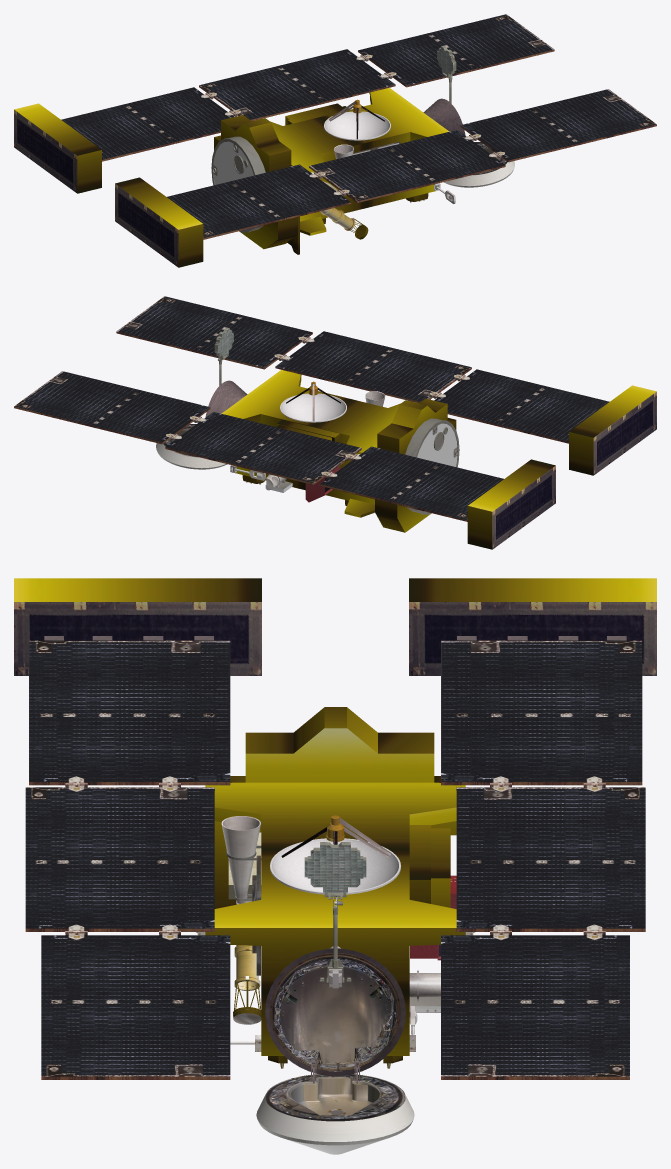
The model's file is stardust_lod0.glb.
The picture shows the model from 3 angles, top to bottom: view 1: azimuth 30°, elevation 25°; view 2: azimuth 150°, elevation 25°; view 3: azimuth 270°, elevation 25°; orthographic projection. The views are drawn at different scales.
Parts seen in each view (by area): view 1: stardust_lod0; view 2: stardust_lod0; view 3: stardust_lod0.
Part boxes in pixels (bbox=[...]): stardust_lod0: bbox=[14, 14, 656, 267]; stardust_lod0: bbox=[14, 296, 656, 549]; stardust_lod0: bbox=[14, 578, 656, 1154].
Bounding box in the file's own units: 5.1 × 1.47 × 2.99.
Materials: 7 (6 with a texture image).
